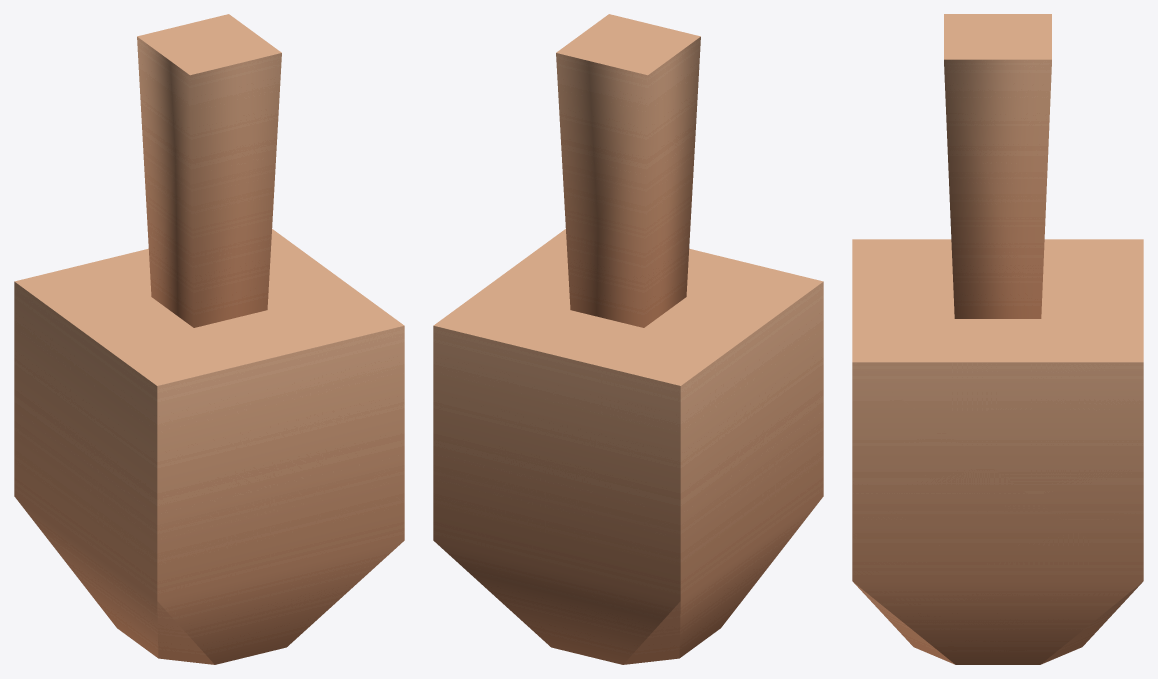
Rendered from hanukkah-dreidel.glb.
The picture shows the model from 3 angles, left to right: view 1: azimuth 30°, elevation 25°; view 2: azimuth 150°, elevation 25°; view 3: azimuth 270°, elevation 25°; orthographic projection.
Parts seen in each view (by area): view 1: hanukkah-dreidel; view 2: hanukkah-dreidel; view 3: hanukkah-dreidel.
Boxes of the visible parts, x1,y1,x2,y2 form: hanukkah-dreidel: (14, 14, 404, 664); hanukkah-dreidel: (433, 14, 823, 664); hanukkah-dreidel: (852, 14, 1143, 664).
Bounding box in the file's own units: 0.4817 × 1.08 × 0.4817.
1 material, 1 textured.
